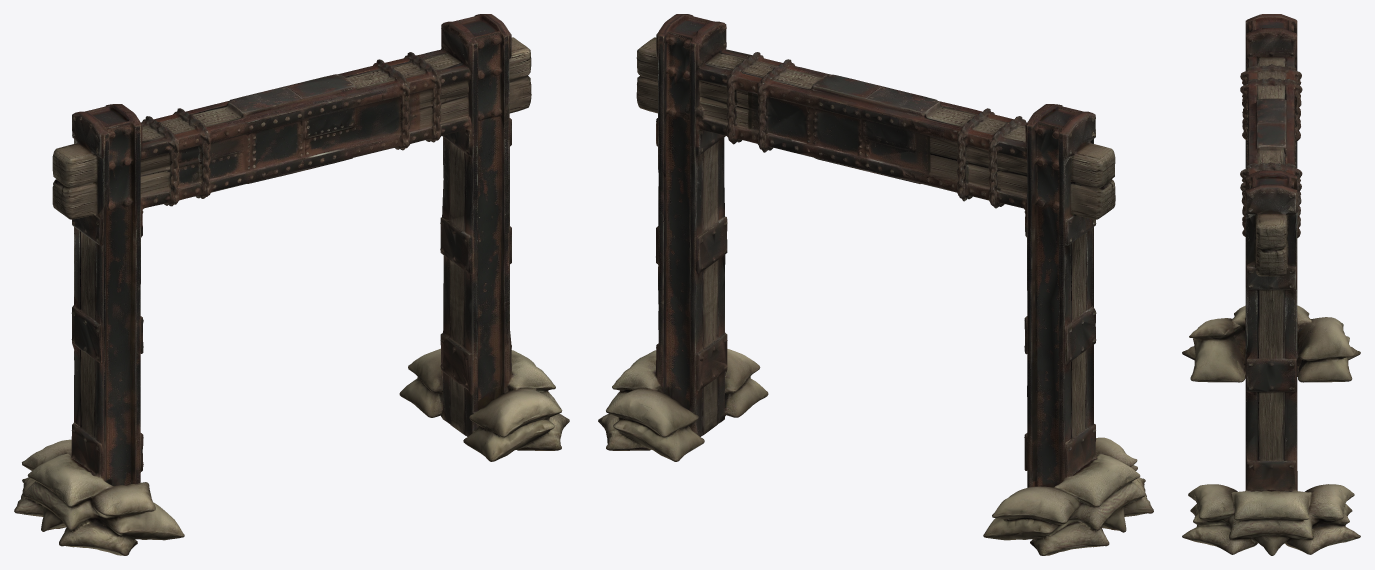
Rendered from building_gate_frame.glb.
The picture shows the model from 3 angles, left to right: view 1: azimuth 30°, elevation 25°; view 2: azimuth 150°, elevation 25°; view 3: azimuth 270°, elevation 25°; orthographic projection. The views are drawn at different scales.
Parts seen in each view (by area): view 1: Mesh_0; view 2: Mesh_0; view 3: Mesh_0.
Boxes of the visible parts, x1,y1,x2,y2 form: Mesh_0: (14,14,569,555); Mesh_0: (598,14,1153,555); Mesh_0: (1182,14,1360,555).
Bounding box in the file's own units: 6.61 × 5 × 2.31.
Materials: 1 (1 with a texture image).
